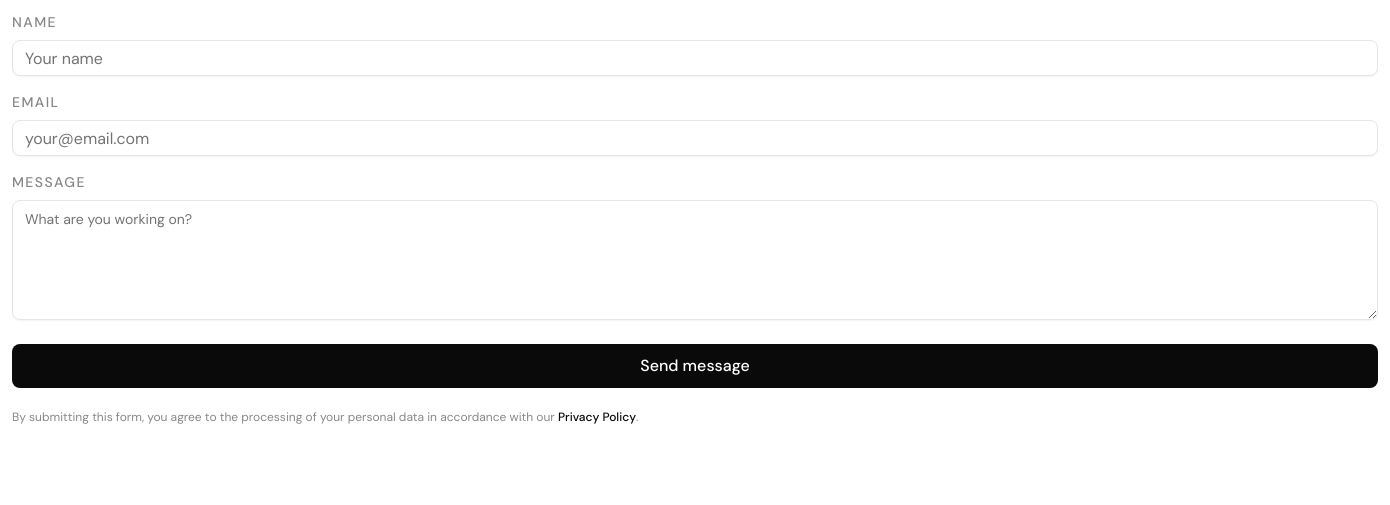
Test case: ContactForm › shows error message when emailjs.send fails
Type "Keighley" into the field with placeholder "Your name" at (695, 58), box 12,40 -> 1378,76
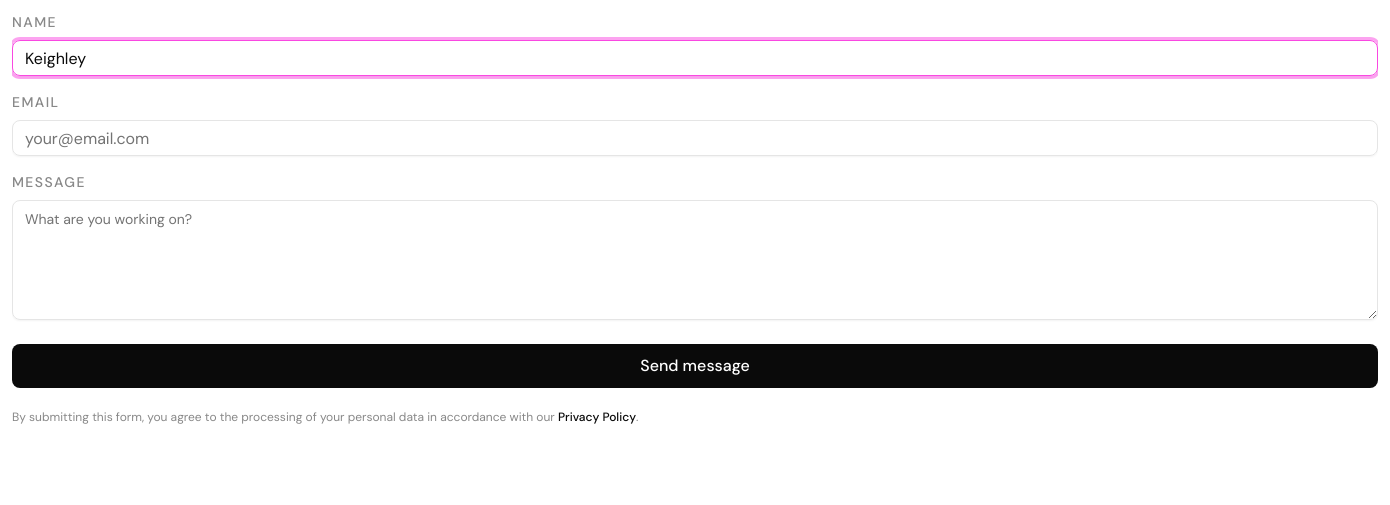
Type "test@example.com" into the field with placeholder "your@email.com" at (695, 138), box 12,120 -> 1378,156
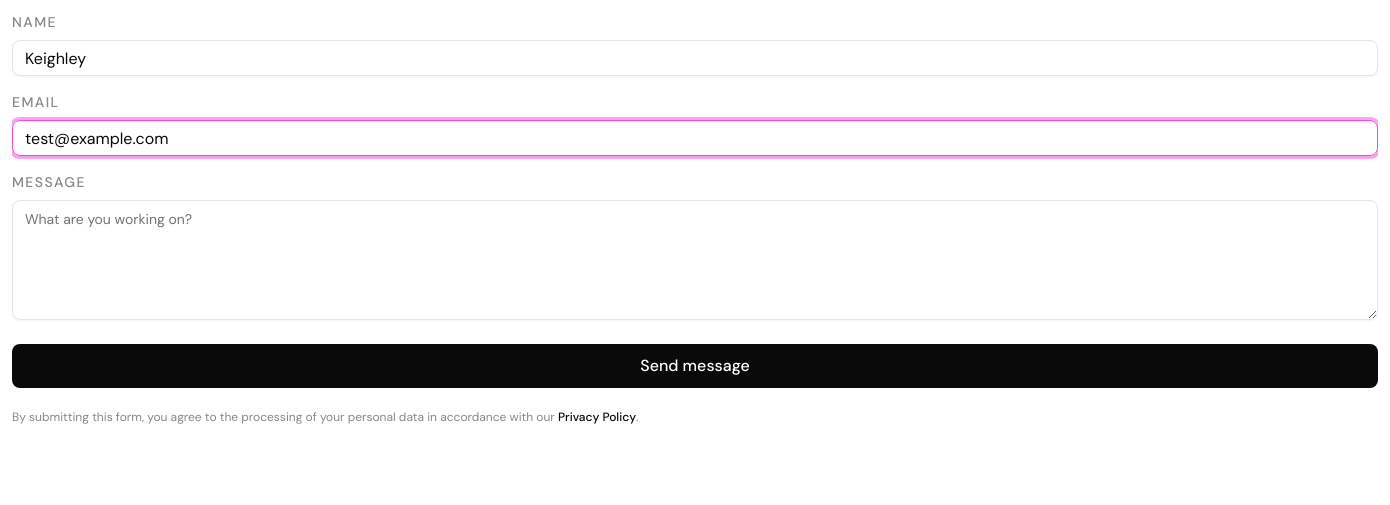
Type "Hello there this is a message" into the text box with placeholder "What are you working on?" at (695, 260), box 12,200 -> 1378,320
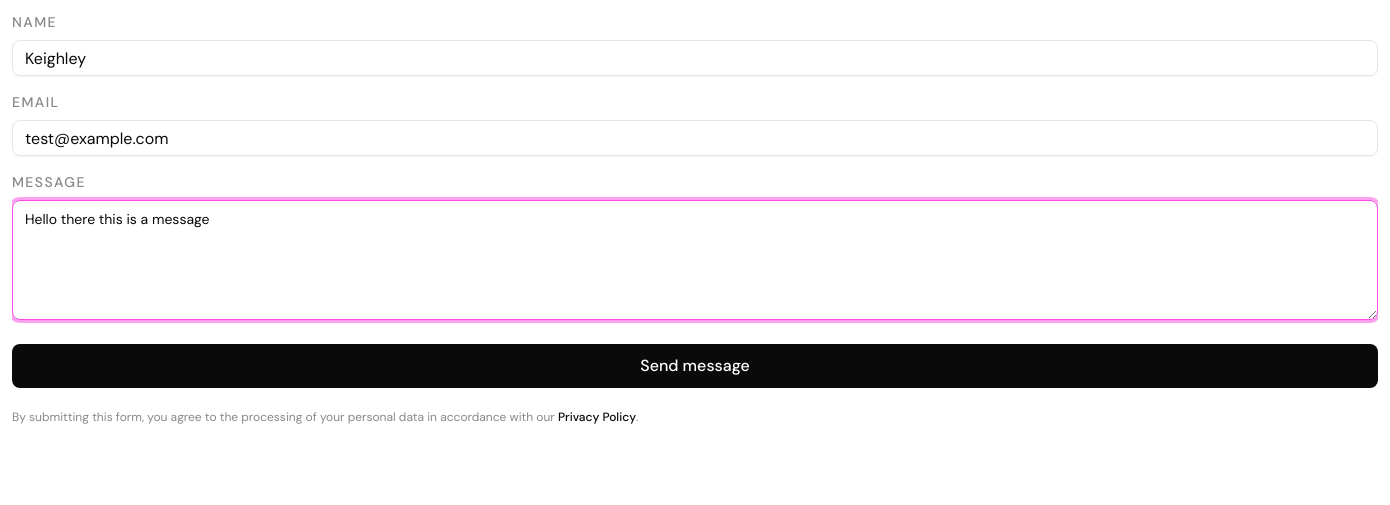
Click the button "Send message" at (695, 366), box 12,344 -> 1378,388
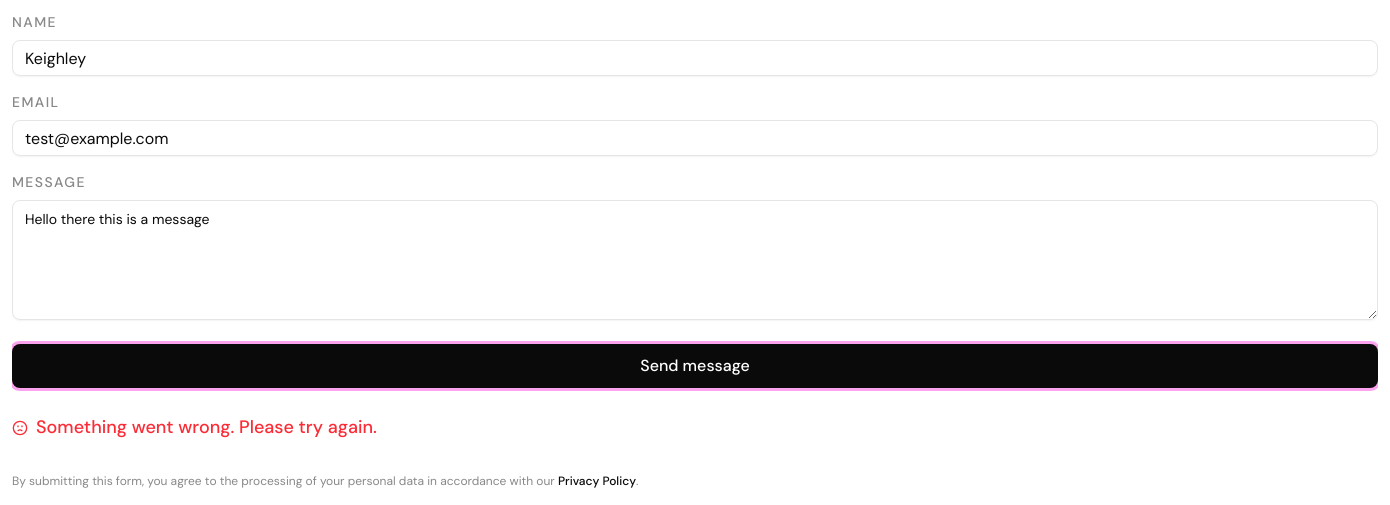
Now the text "Something went wrong. Please try again." is shown, box 12,415 -> 377,439
